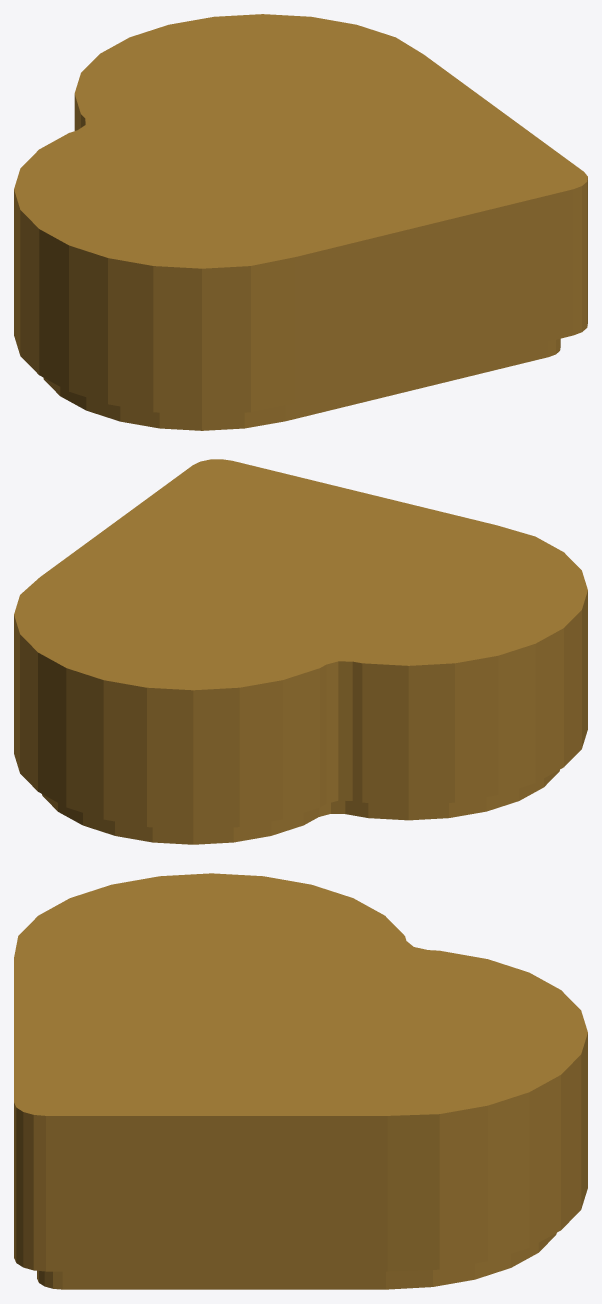
Rendered from Heart.dae.
The picture shows the model from 3 angles, top to bottom: view 1: azimuth 30°, elevation 25°; view 2: azimuth 150°, elevation 25°; view 3: azimuth 270°, elevation 25°; orthographic projection. The views are drawn at different scales.
Visible parts, largest first — view 1: Part.0; view 2: Part.0; view 3: Part.0.
Boxes of the visible parts, box(x1,y1,x2,y2) form: Part.0: box(14, 14, 587, 430); Part.0: box(14, 459, 587, 844); Part.0: box(14, 873, 587, 1289).
Size of the model in its own units: 8.96 by 3.16 by 8.96.
